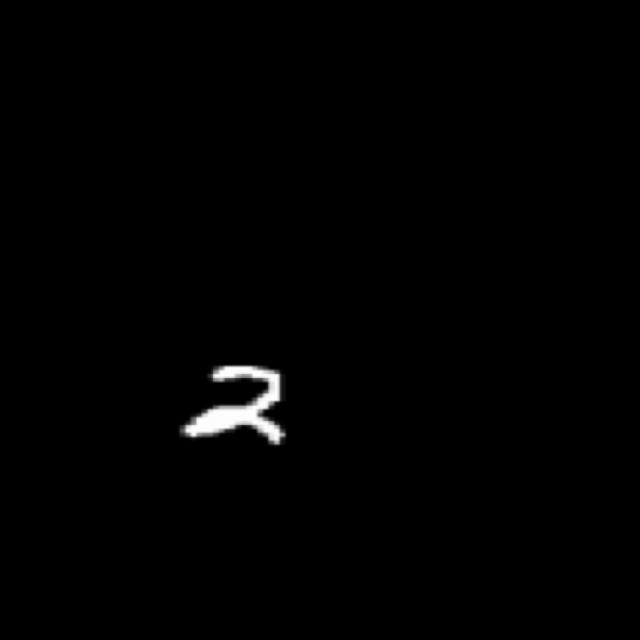two -2-: (164, 349, 308, 462)
